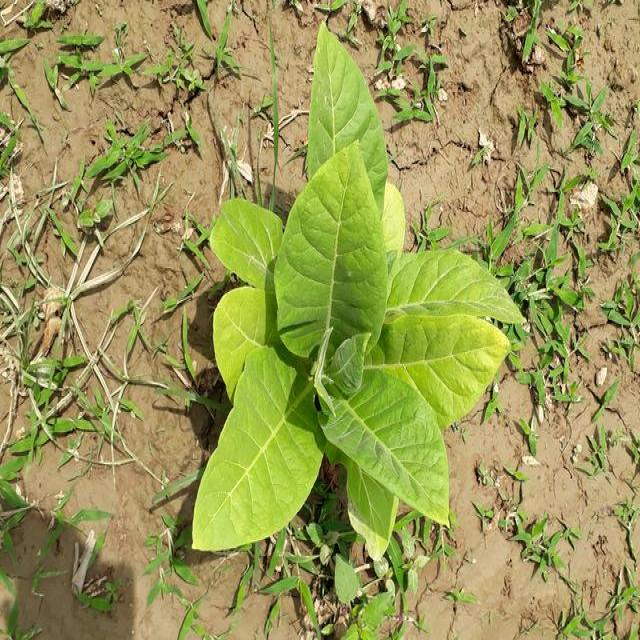crop: (179, 36, 516, 595)
